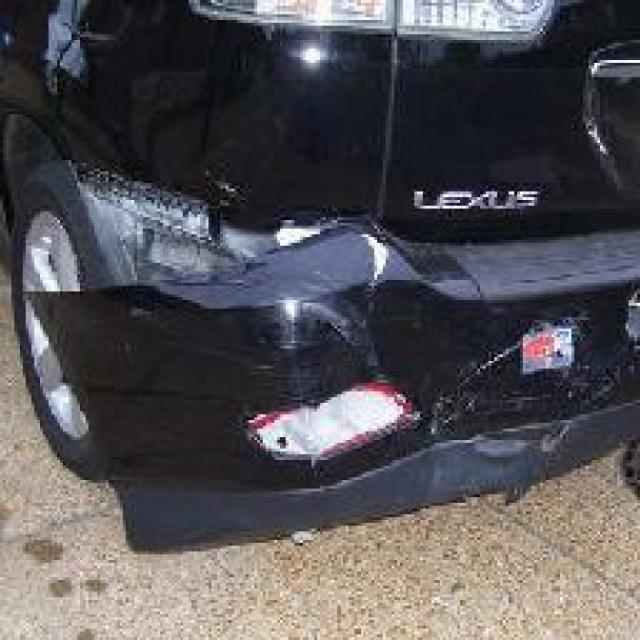damaged: (28, 157, 618, 517)
